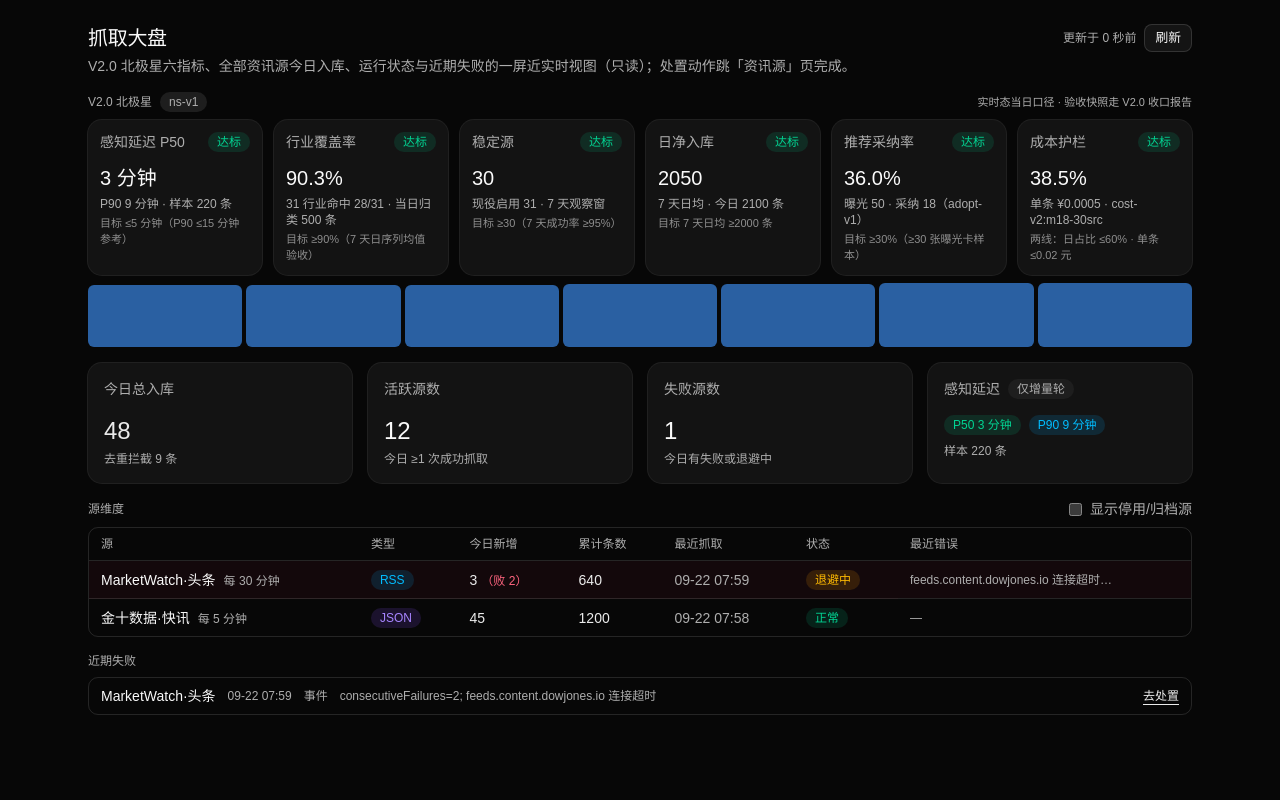
Test: FeedDashboard 大盘三处数字弹框（V2.4 T214，REQ-20260928-20 拍板三） › 对账② 源行「今日新增」可点：sourceId + 入库日=今日 + l0=ALL，标题 total == 行数字
The image size is (1280, 800).
Expected: the row with test id "dashboard-source-row-mw_topstories" is shown, [89, 561, 1191, 599]
Click the button with test id "dashboard-source-today-mw_topstories" at [473, 580], box [470, 570, 477, 590]
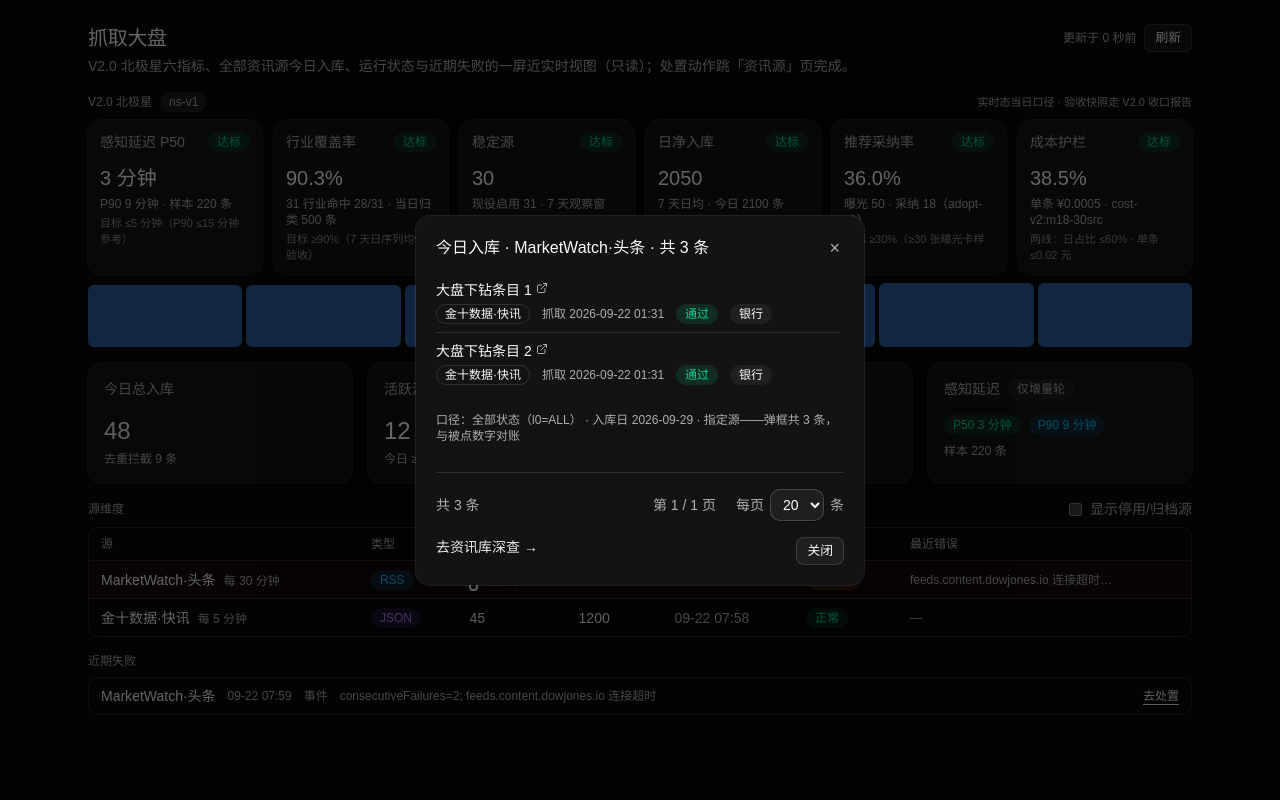
Expected: the dialog shows "今日入库 · MarketWatch·头条", [436, 238, 709, 256]
